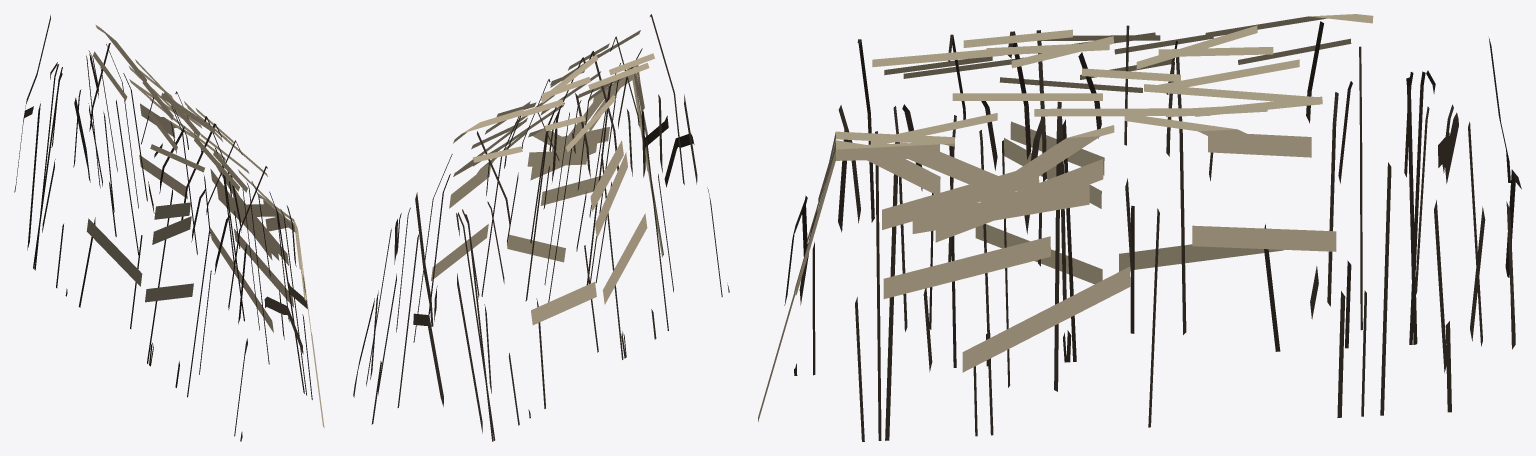
The model's file is dam_domes_fin_west_detail1.glb.
The picture shows the model from 3 angles, left to right: view 1: azimuth 30°, elevation 25°; view 2: azimuth 150°, elevation 25°; view 3: azimuth 270°, elevation 25°; orthographic projection. The views are drawn at different scales.
Parts seen in each view (by area): view 1: dam_domes_fin_west_detail1; view 2: dam_domes_fin_west_detail1; view 3: dam_domes_fin_west_detail1.
Part boxes in pixels (<box>): dam_domes_fin_west_detail1: <box>14,15,324,441</box>; dam_domes_fin_west_detail1: <box>353,14,729,441</box>; dam_domes_fin_west_detail1: <box>758,14,1521,441</box>.
Bounding box in the file's own units: 8 × 21.53 × 37.6.
